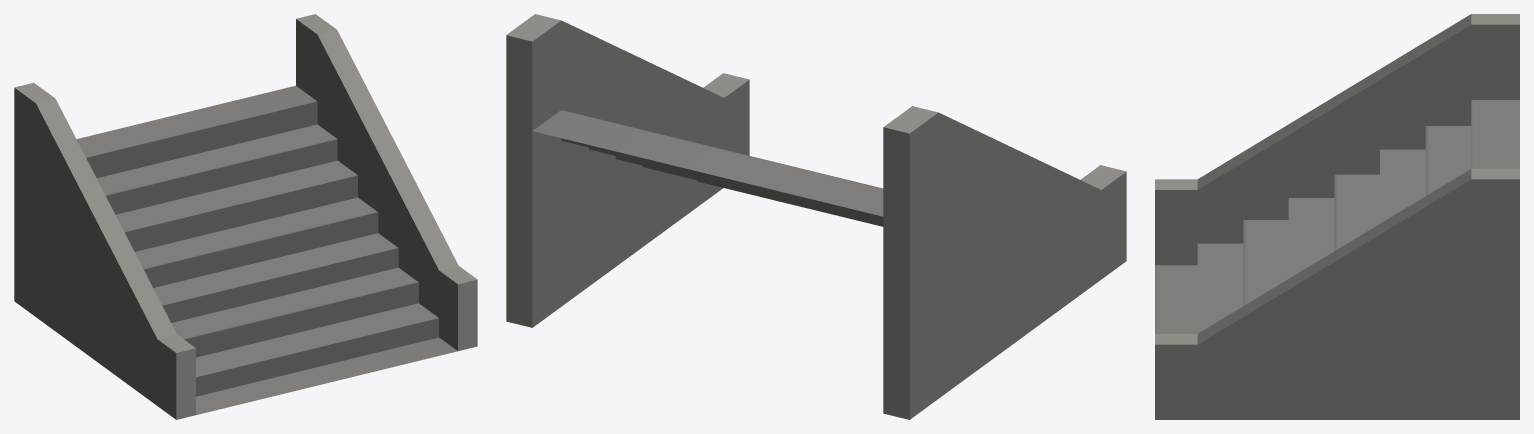
Rendered from SM_Env_Stairs_02.glb.
3 renders of one model, left to right at view 1: azimuth 30°, elevation 25°; view 2: azimuth 150°, elevation 25°; view 3: azimuth 270°, elevation 25°, orthographic. The views are drawn at different scales.
Parts seen in each view (by area): view 1: SM_Env_Stairs_02; view 2: SM_Env_Stairs_02; view 3: SM_Env_Stairs_02.
Part boxes in pixels (<box>): SM_Env_Stairs_02: <box>14,14,477,419</box>; SM_Env_Stairs_02: <box>506,14,1126,419</box>; SM_Env_Stairs_02: <box>1155,14,1519,419</box>.
Size of the model in its own units: 0.0536 by 0.0364 by 0.05.
Materials: 1 (1 with a texture image).
